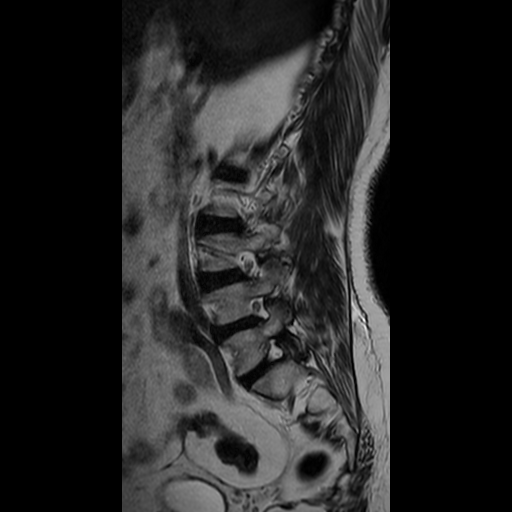RFS0: (238, 288, 279, 333)
